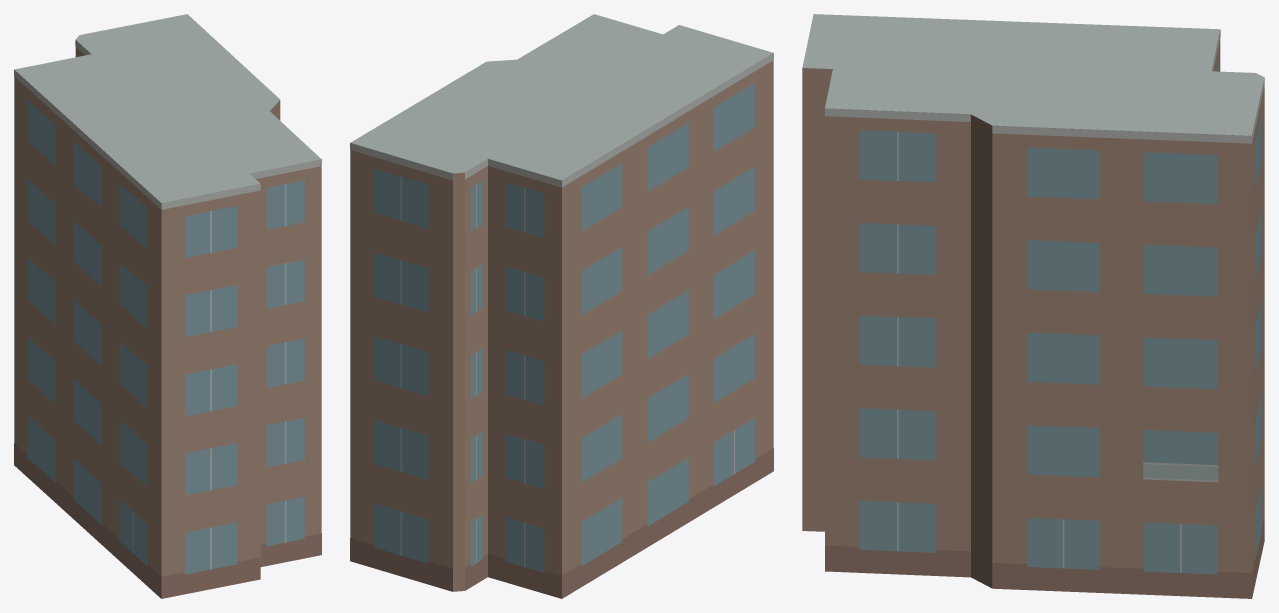
The model's file is survey-upis-32655801.glb.
The picture shows the model from 3 angles, left to right: view 1: azimuth 30°, elevation 25°; view 2: azimuth 150°, elevation 25°; view 3: azimuth 270°, elevation 25°; orthographic projection. The views are drawn at different scales.
Visible parts, largest first — view 1: survey-upis-32655801.tmp; view 2: survey-upis-32655801.tmp; view 3: survey-upis-32655801.tmp.
Boxes of the visible parts, <box> form: survey-upis-32655801.tmp: <box>14,14,321,598</box>; survey-upis-32655801.tmp: <box>350,14,773,598</box>; survey-upis-32655801.tmp: <box>802,14,1264,598</box>.
Size of the model in its own units: 8.13 by 14.4 by 13.04.
